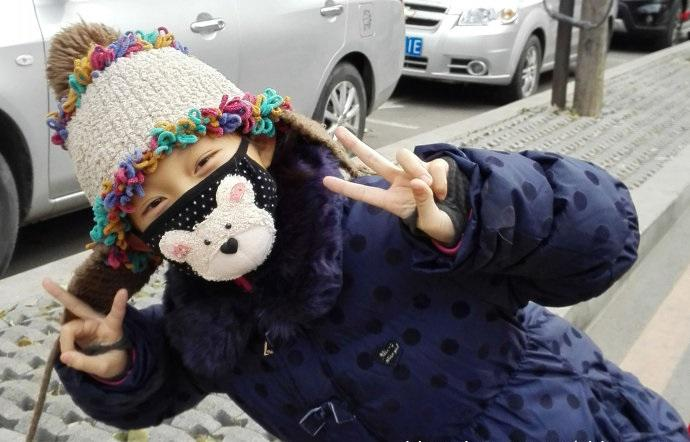OK: (121, 125, 272, 276)
